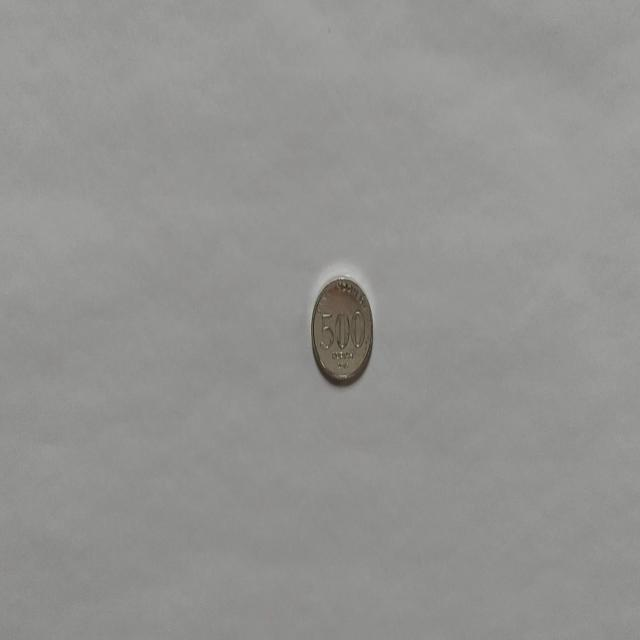lima ratus rupiah: (310, 274, 374, 385)
